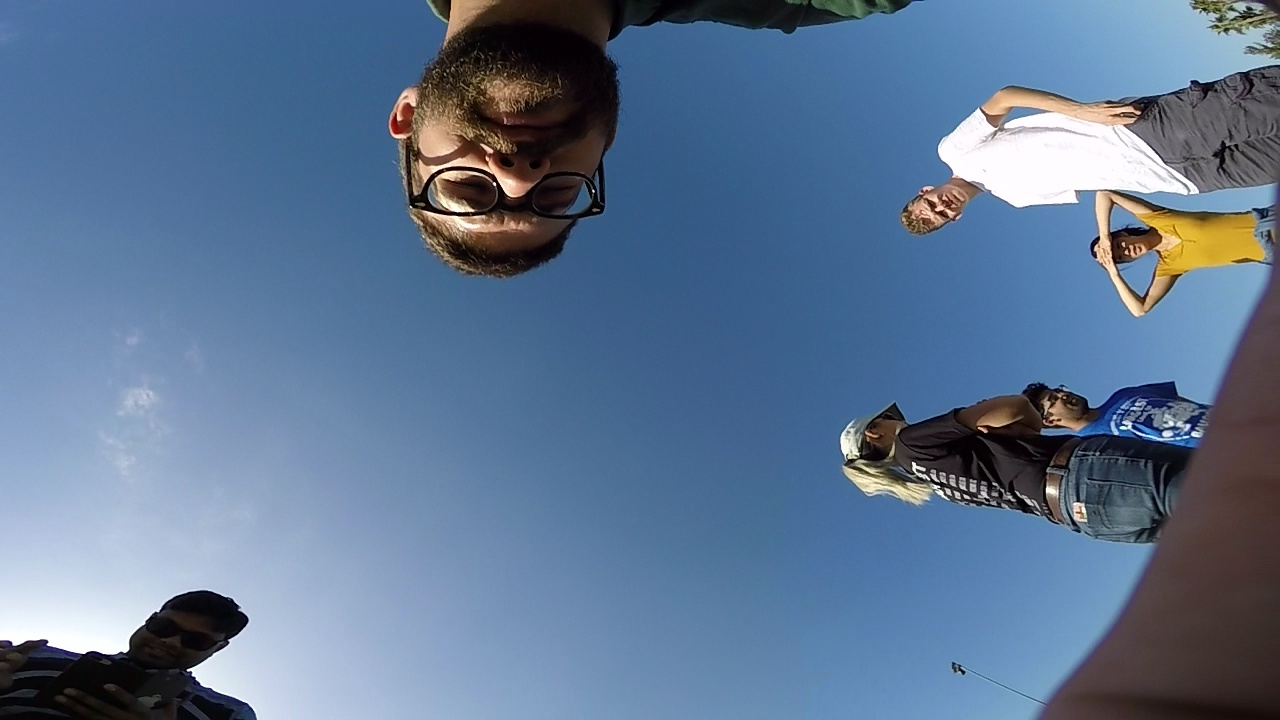person: (884, 139, 1276, 675), (975, 269, 1276, 697), (371, 0, 625, 286), (898, 78, 1270, 260), (23, 597, 250, 718)
